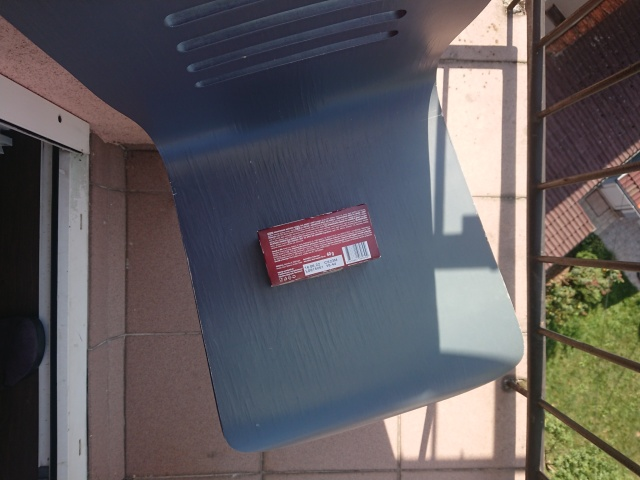Franck Apple Cinnamon Tea 60g: (254, 200, 383, 289)
